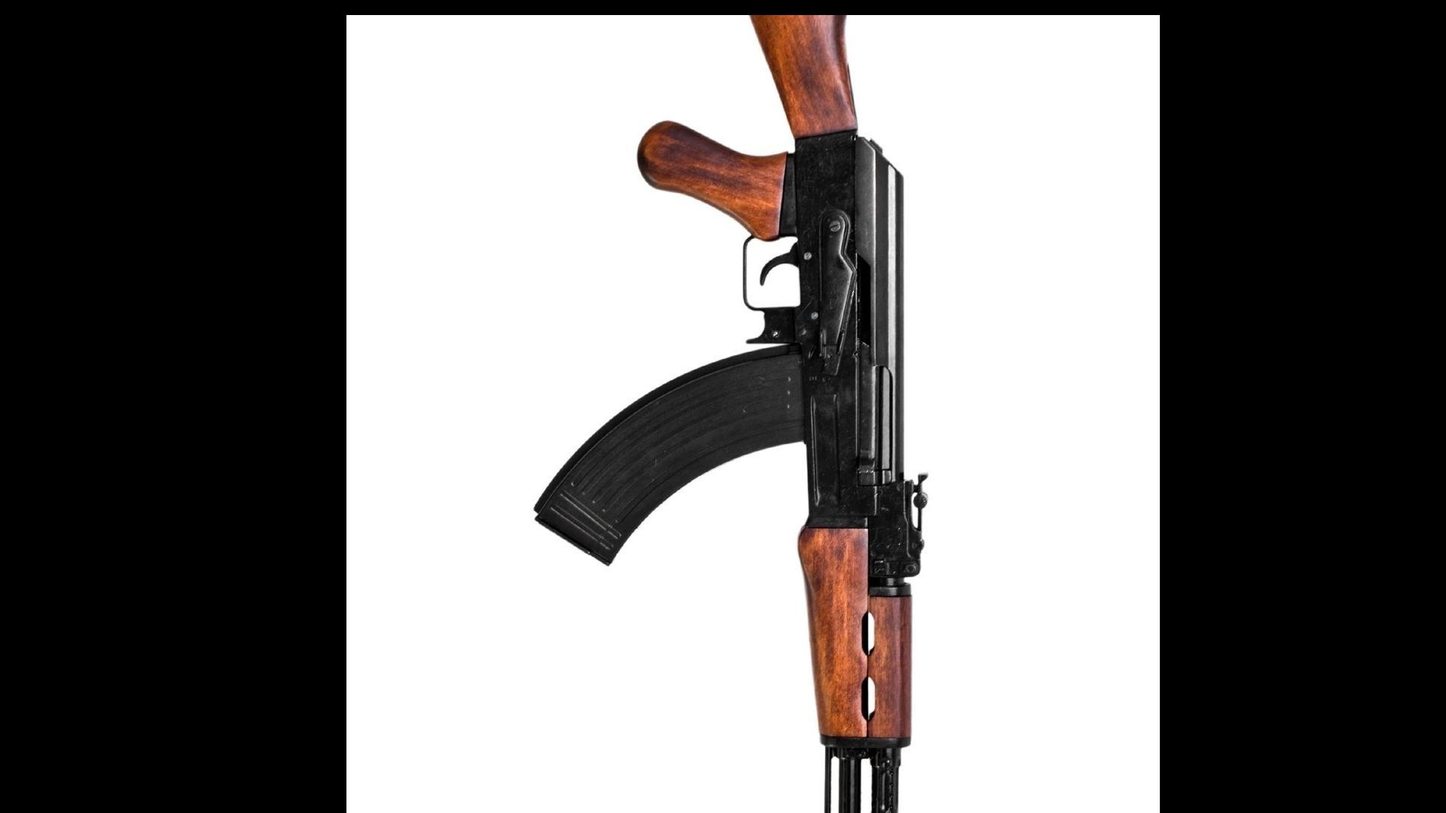larga: (534, 13, 936, 813)
